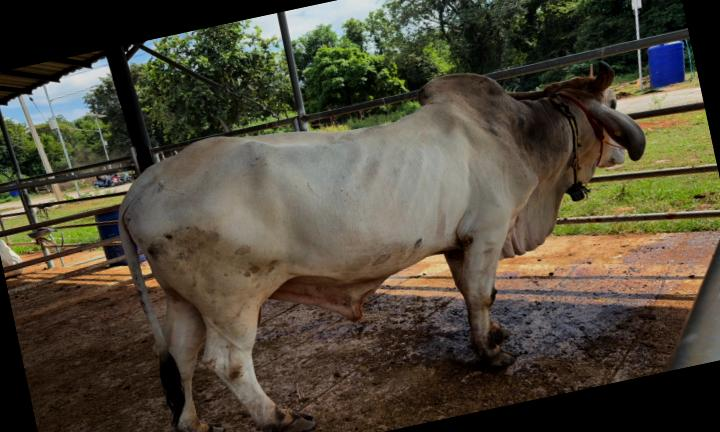Brahman: (120, 63, 645, 432)
